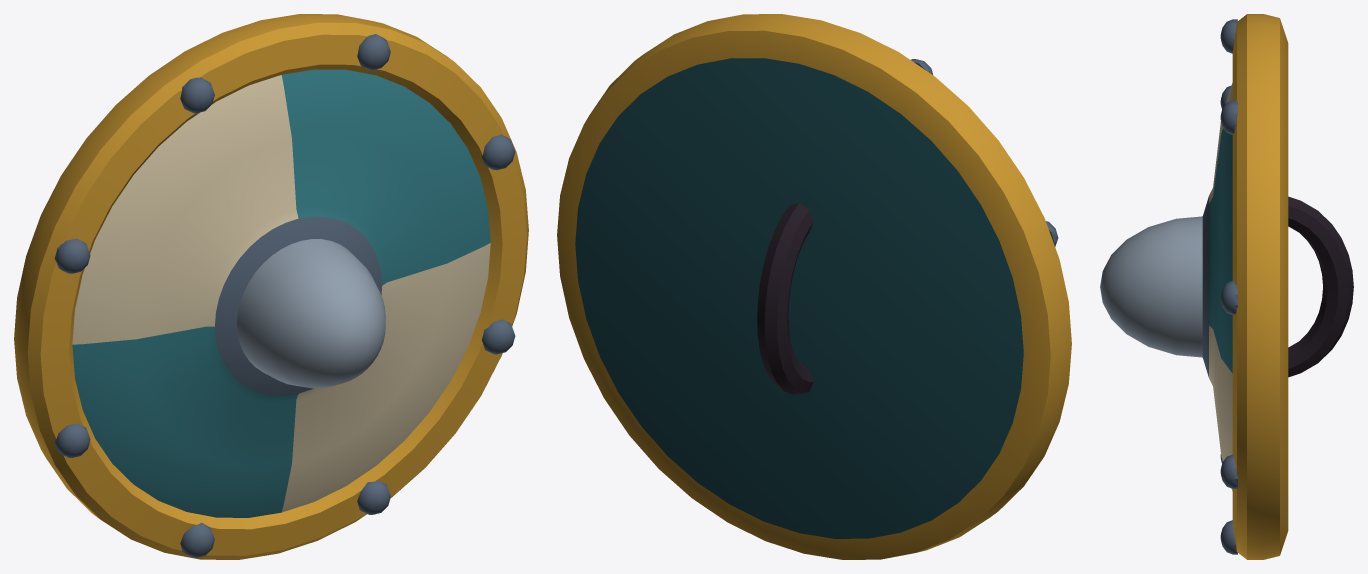
File: RoundShield_20.glb
3 views of the same model, side by side, from view 1: azimuth 30°, elevation 25°; view 2: azimuth 150°, elevation 25°; view 3: azimuth 270°, elevation 25° (orthographic). The views are drawn at different scales.
Visible parts, largest first — view 1: RoundShield_20; view 2: RoundShield_20; view 3: RoundShield_20.
Boxes of the visible parts, x1,y1,x2,y2 form: RoundShield_20: (14, 14, 528, 559); RoundShield_20: (557, 14, 1071, 559); RoundShield_20: (1100, 14, 1353, 559).
Size of the model in its own units: 2.66 by 2.66 by 1.24.
